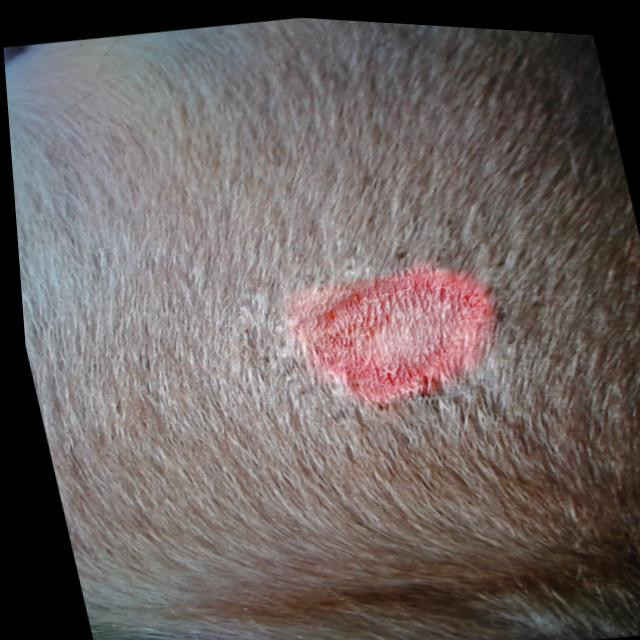ringworm: (232, 249, 528, 421)
